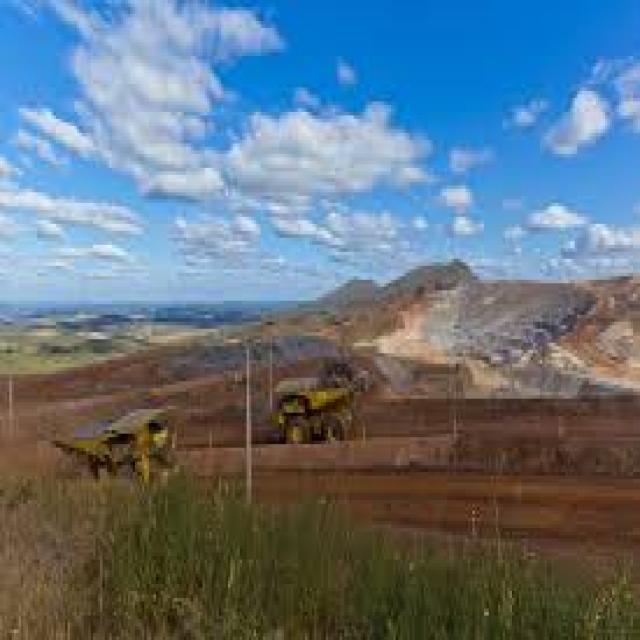dump_truck: (258, 353, 375, 479)
